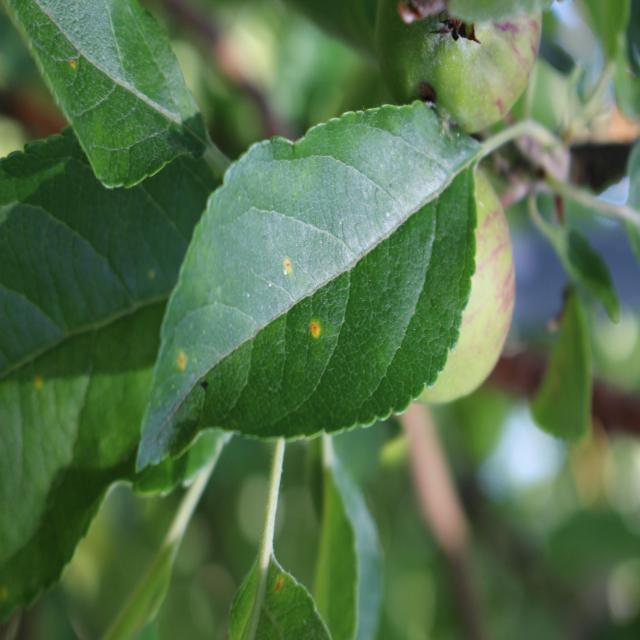Rust: (170, 337, 195, 383), (304, 315, 328, 358), (274, 252, 296, 288)
